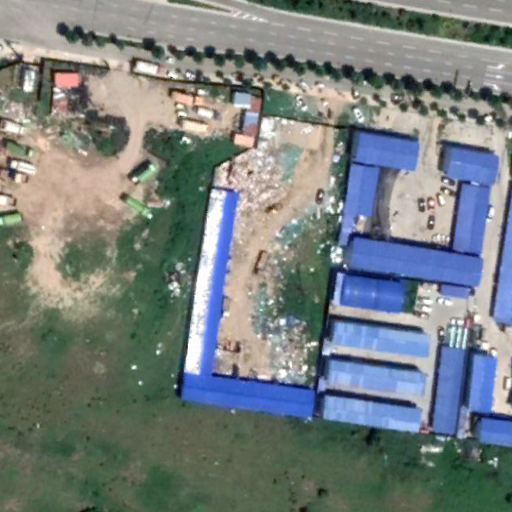msw: (210, 140, 317, 384)
